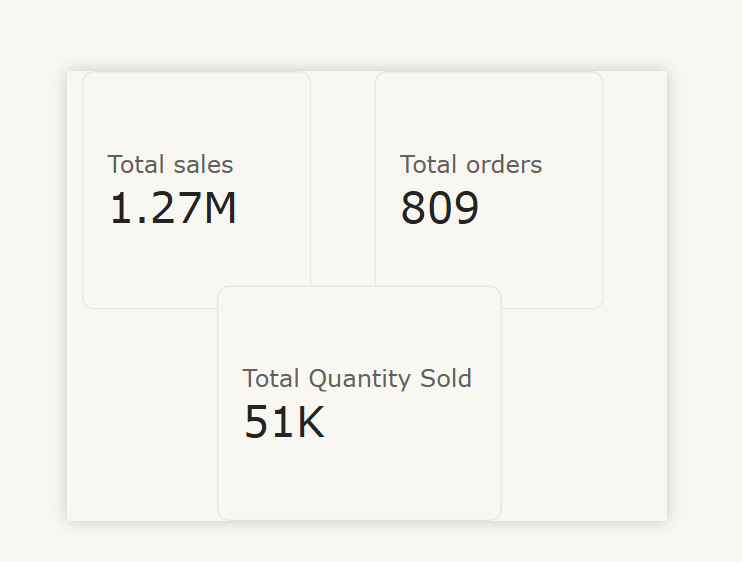

The page's visual inventory and layout, read from the dashboard file:
{"tool":"powerbi","page":{"name":"Category tooltip","canvas":[400,300],"ordinal":3},"visuals":[{"type":"cardVisual","fields":{"Data":["Orders.Total sales"]},"box":[10,0,153,159],"z":0},{"type":"cardVisual","fields":{"Data":["Orders.Total orders"]},"box":[205,0,153,159],"z":1000},{"type":"cardVisual","fields":{"Data":["Orders.Total Quantity Sold"]},"box":[100,143,190,157],"z":2000}]}

Visuals, with their boxes in screenshot pixels (x1, y1, x2, y2), scaled from the page's 400x300 canvas onto the 742x562 screenshot:
cardVisual - Orders.Total sales: l=19, t=0, r=302, b=298
cardVisual - Orders.Total orders: l=380, t=0, r=664, b=298
cardVisual - Orders.Total Quantity Sold: l=186, t=268, r=538, b=561
